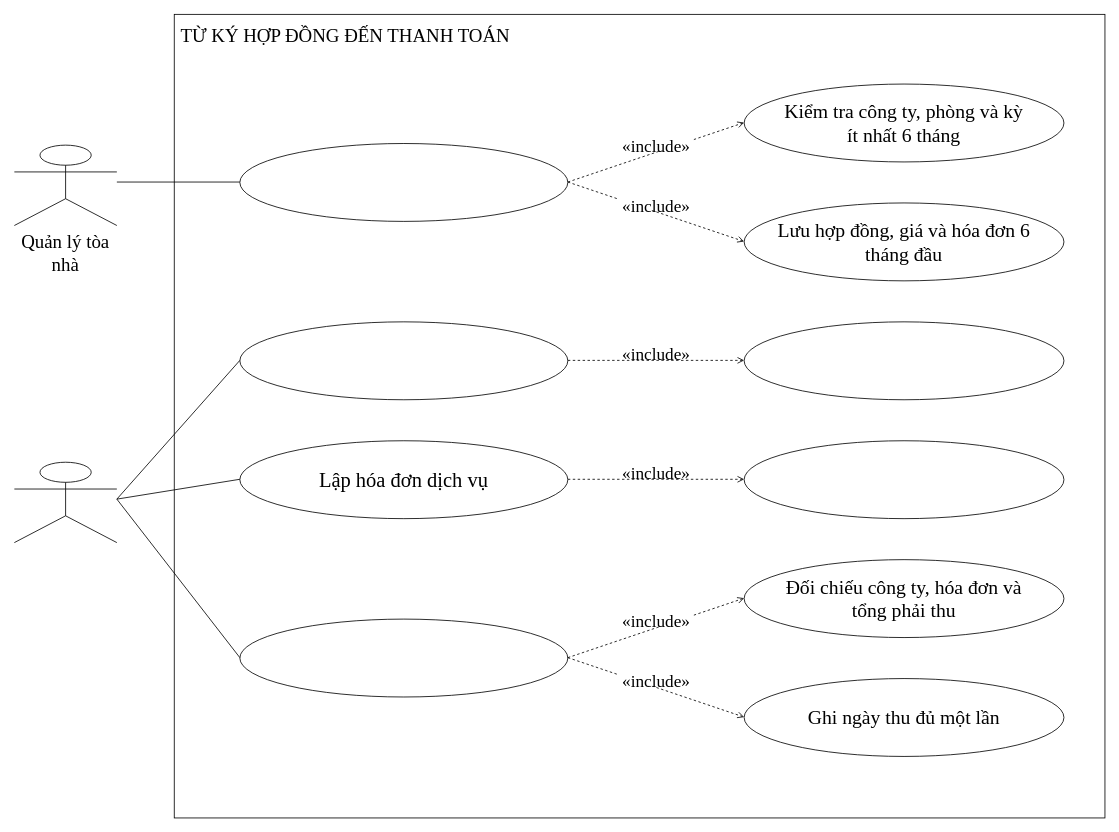
This 1119x832 diagram has some shape labels left out. The shapes that lost their labels are listed below. From the top down, each one's box as (x1, y1, x2, y2) in pixels, then its label:
(239, 143, 568, 221): Lập hợp đồng nhiều phòng
(239, 321, 568, 400): Lập tiền thuê từ tháng thứ 7
(743, 321, 1064, 400): Đọc hạn từng phòng, giá và kỳ chưa lập
(743, 440, 1064, 519): Đọc dịch vụ, lượng dùng và khoảng đã tính
(14, 461, 117, 543): Kế toán
(239, 618, 568, 697): Xác nhận thu tiền
